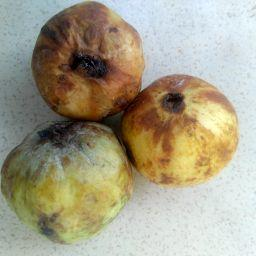guava: (0, 120, 134, 246), (29, 0, 147, 123), (122, 68, 240, 190)
